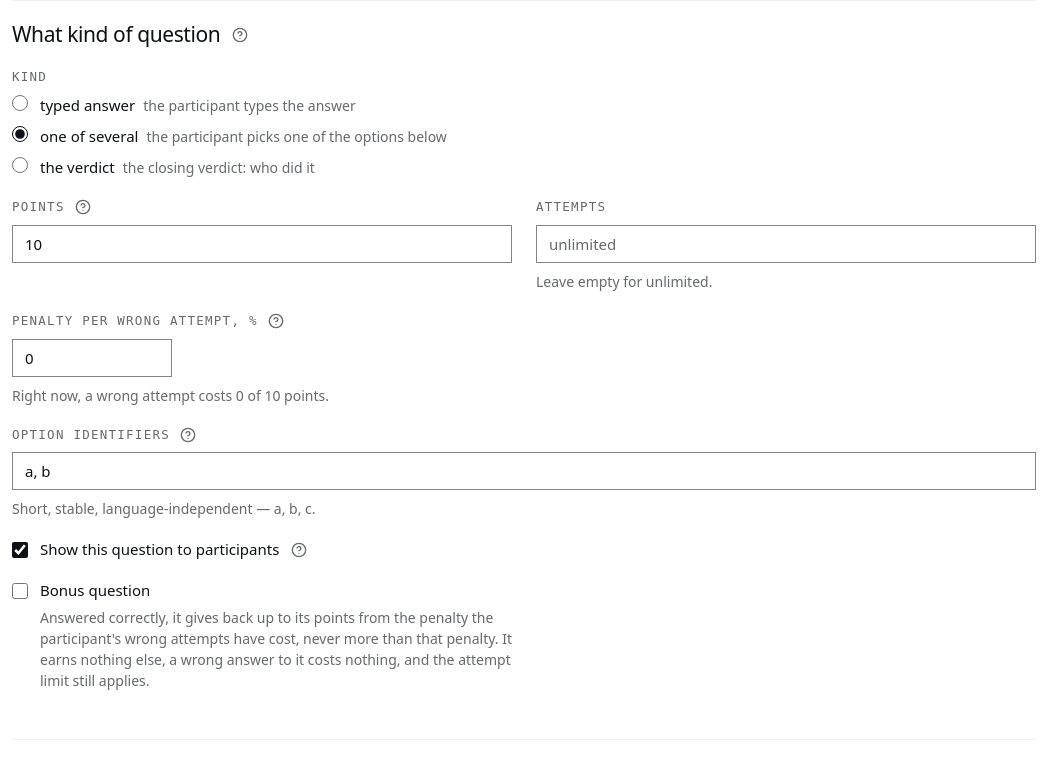
Test case: QuestionEditor, rules on screen and explanations behind a question mark › puts the penalty's and the identifiers' reasons behind a question mark
This screenshot has width=1048, height=760.
What coordinates should you click on to do the following:
click the button named "Hint" next to "Penalty per wrong attempt, %"
I would click on:
 (276, 321)
Its box is [264,309,288,333].
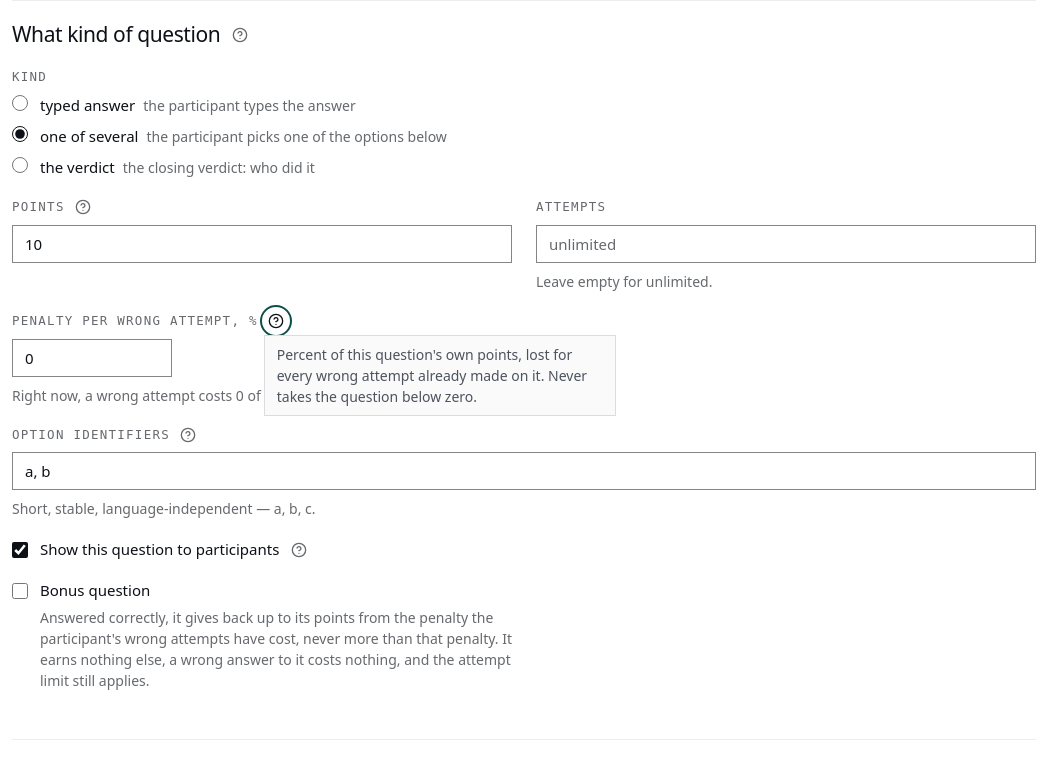
Expected: the number field labelled "Penalty per wrong attempt, %" is shown, [12,338,172,376]
Now the tooltip "Percent of this question's own points, lost for every wrong attempt already made on it. Never takes the question below z" is shown, box [277,345,587,406]
